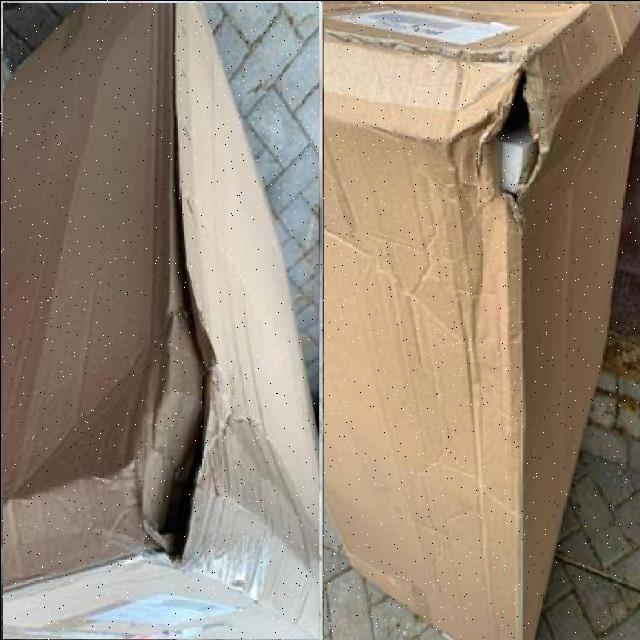defect: (323, 3, 640, 640), (2, 2, 318, 638)
